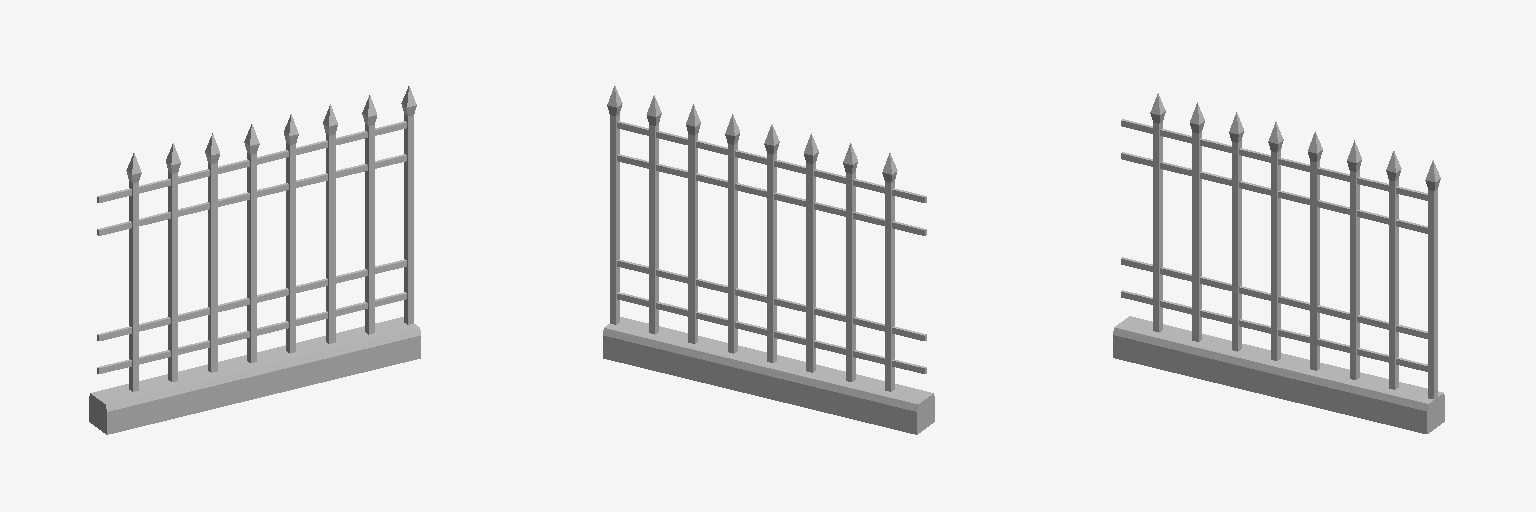
File: fenceIronBorder.obj
3 renders of one model, left to right at view 1: azimuth 30°, elevation 25°; view 2: azimuth 150°, elevation 25°; view 3: azimuth 330°, elevation 25°, orthographic.
Visible parts, largest first — view 1: fenceIronBorder, bar 17, bar 19, bar 16, bar 22, bar 18, bar 20, bar 23, bar 21, bar 15, bar 12, bar 13 (+1 smaller); view 2: fenceIronBorder, bar 17, bar 19, bar 16, bar 22, bar 18, bar 20, bar 23, bar 21, bar 15, bar 12, bar 13 (+1 smaller); view 3: fenceIronBorder, bar 23, bar 20, bar 18, bar 21, bar 22, bar 17, bar 16, bar 19, bar 12, bar 15, bar 14 (+1 smaller).
Boxes of the visible parts, x1=… form: fenceIronBorder: x1=89, y1=317, x2=420, y2=434; bar 17: x1=323, y1=104, x2=337, y2=343; bar 19: x1=205, y1=133, x2=219, y2=372; bar 16: x1=362, y1=95, x2=376, y2=334; bar 22: x1=244, y1=124, x2=259, y2=362; bar 18: x1=284, y1=114, x2=298, y2=353; bar 20: x1=166, y1=143, x2=180, y2=381; bar 23: x1=401, y1=86, x2=416, y2=324; bar 21: x1=126, y1=153, x2=141, y2=391; bar 15: x1=97, y1=121, x2=406, y2=202; bar 12: x1=97, y1=259, x2=406, y2=340; bar 13: x1=97, y1=292, x2=406, y2=373; fenceIronBorder: x1=603, y1=317, x2=934, y2=434; bar 17: x1=686, y1=104, x2=700, y2=343; bar 19: x1=804, y1=133, x2=818, y2=372; bar 16: x1=647, y1=95, x2=661, y2=334; bar 22: x1=764, y1=124, x2=779, y2=362; bar 18: x1=725, y1=114, x2=739, y2=353; bar 20: x1=843, y1=143, x2=857, y2=381; bar 23: x1=607, y1=86, x2=622, y2=324; bar 21: x1=882, y1=153, x2=897, y2=391; bar 15: x1=617, y1=121, x2=926, y2=202; bar 12: x1=617, y1=259, x2=926, y2=340; bar 13: x1=617, y1=292, x2=926, y2=373; fenceIronBorder: x1=1113, y1=316, x2=1444, y2=433; bar 23: x1=1425, y1=160, x2=1440, y2=399; bar 20: x1=1190, y1=102, x2=1204, y2=341; bar 18: x1=1308, y1=131, x2=1322, y2=370; bar 21: x1=1150, y1=93, x2=1165, y2=332; bar 22: x1=1268, y1=122, x2=1283, y2=360; bar 17: x1=1347, y1=140, x2=1361, y2=379; bar 16: x1=1386, y1=151, x2=1401, y2=389; bar 19: x1=1229, y1=112, x2=1243, y2=351; bar 12: x1=1121, y1=257, x2=1427, y2=338; bar 15: x1=1121, y1=119, x2=1427, y2=200; bar 14: x1=1121, y1=152, x2=1427, y2=233.
Bounding box in the file's own units: 10.06 × 8.14 × 1.